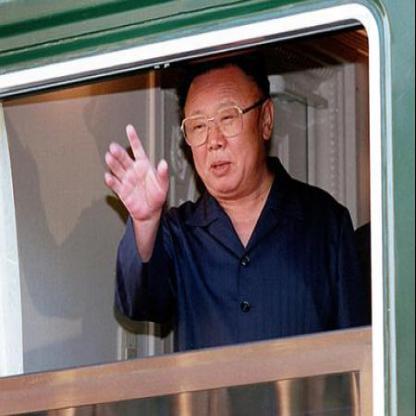face: (185, 62, 264, 198)
